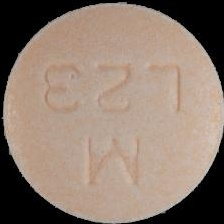60429-207: (0, 0, 224, 224)
